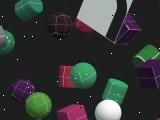Left: (77, 0, 133, 43)
